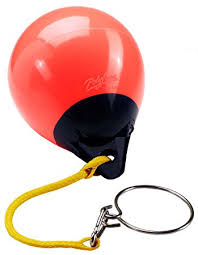buoy: (7, 6, 145, 147)
